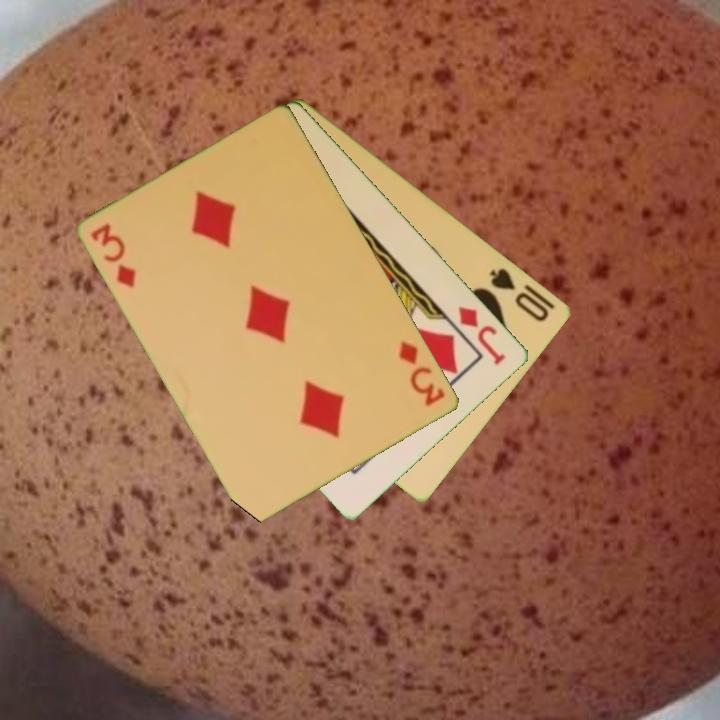10s: (487, 264, 552, 325)
3d: (395, 338, 449, 410), (87, 220, 140, 291)
Jd: (455, 302, 509, 369)
